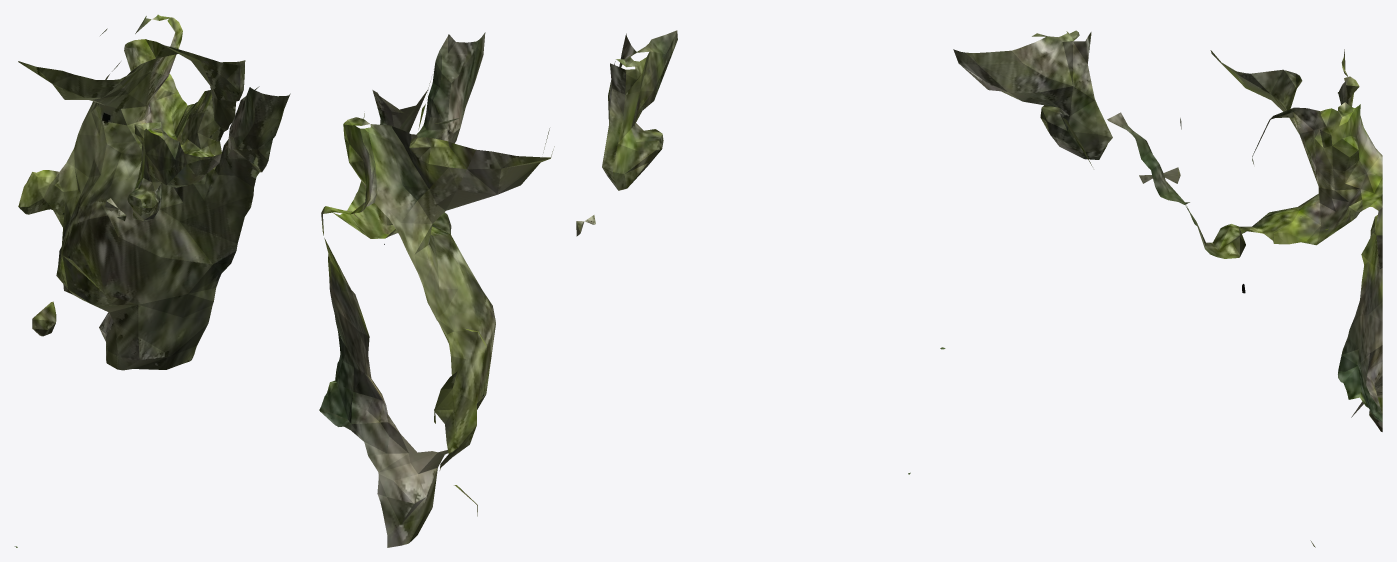
The picture shows the model from 3 angles, left to right: view 1: azimuth 30°, elevation 25°; view 2: azimuth 150°, elevation 25°; view 3: azimuth 270°, elevation 25°; orthographic projection. The views are drawn at different scales.
Bounding box in the file's own units: 2.95 × 2.95 × 2.76.
3 materials, 3 textured.
